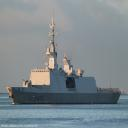Fragata: (7, 8, 123, 108)
